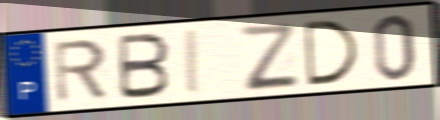0: (370, 12, 419, 83)
B: (117, 31, 173, 101)
D: (300, 18, 362, 88)
I: (185, 27, 202, 97)
R: (51, 37, 110, 105)
Z: (236, 21, 302, 93)
